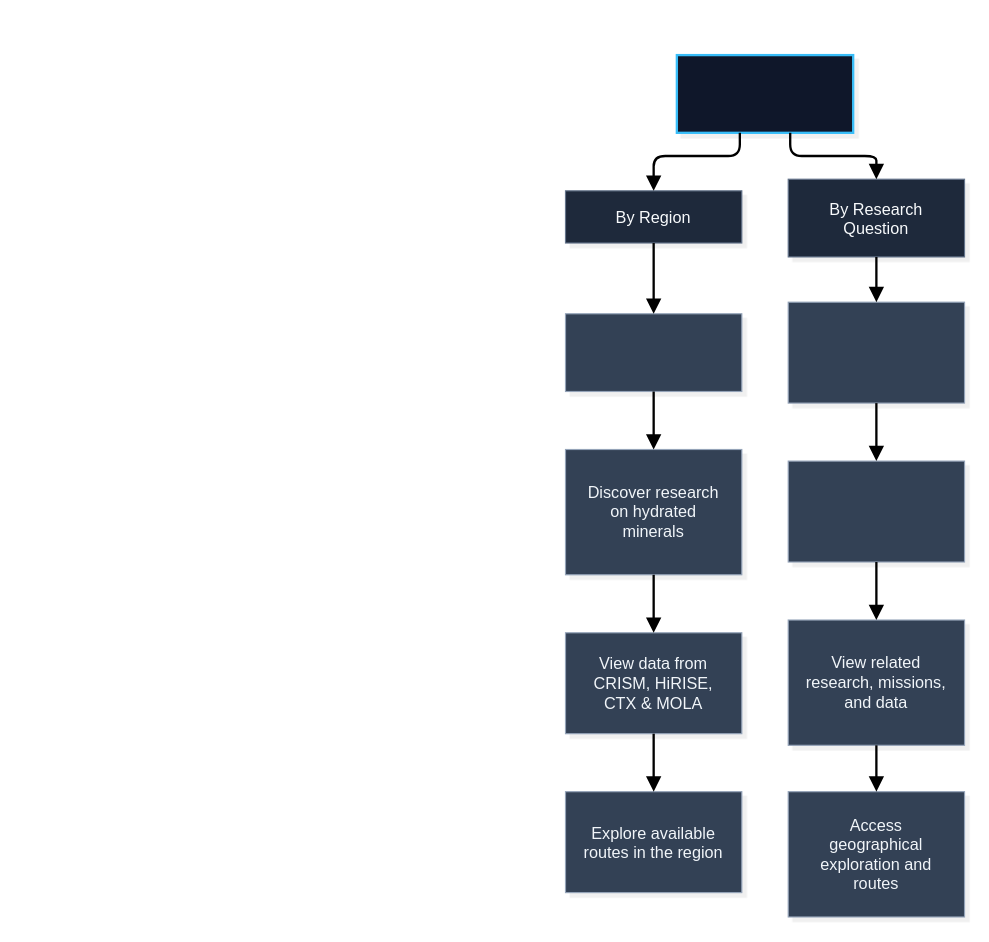
Some shapes in this 989 by 942 pixel diagram are drawn without their labels. Here are the shapes that lost their labels. From the top down, the centre of each, then its label:
At pixel 766 95: "Enter Martian Map".
At pixel 655 354: "Select Mawrth Vallis".
At pixel 878 354: "Select question: 'The history of water on Mars'".
At pixel 878 513: "Discover Mawrth Vallis among related regions".
